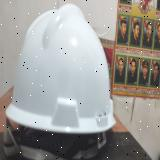Helmet: (5, 3, 116, 134)
